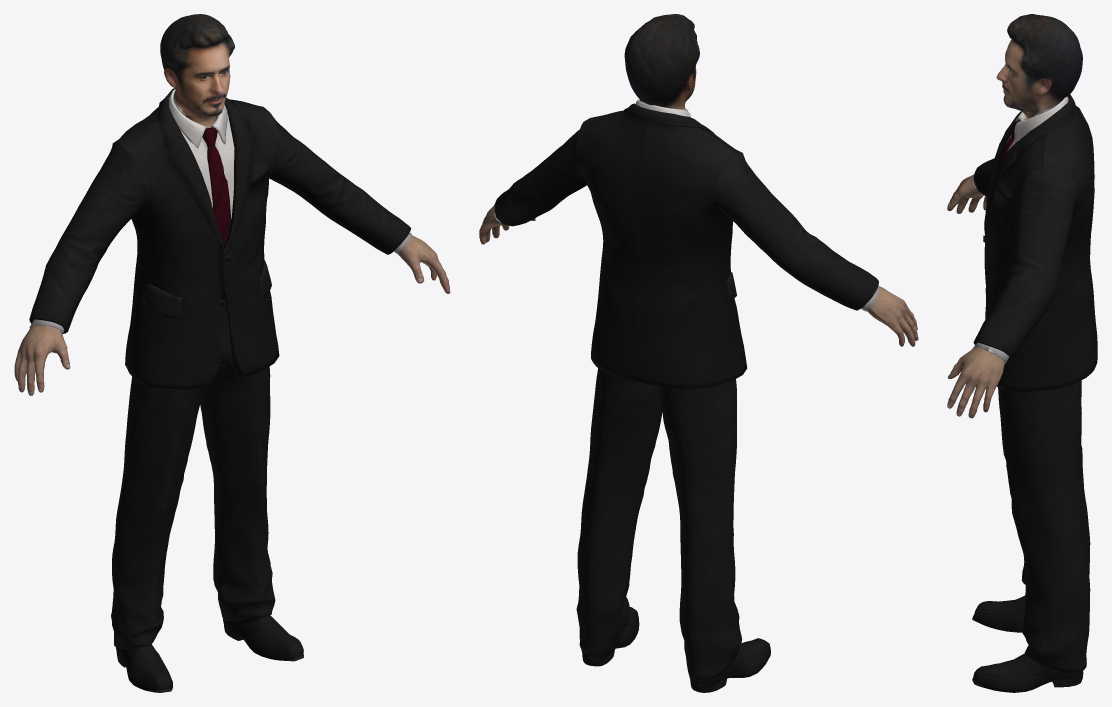
The model's file is avatar.glb.
3 renders of one model, left to right at view 1: azimuth 30°, elevation 25°; view 2: azimuth 150°, elevation 25°; view 3: azimuth 270°, elevation 25°, orthographic.
Parts seen in each view (by area): view 1: 24_suit_0.4_0_0.001, 24_trousers_0.4_0_0.001, model.004, 24_shoes_0.5_0_0.001, 24_shirt_0.3_0_0.001, 24_hands_0.2_0_0.001, 24_trouserP_0.4_0_0.001; view 2: 24_suit_0.4_0_0.001, 24_trousers_0.4_0_0.001, model.004, 24_shoes_0.5_0_0.001, 24_hands_0.2_0_0.001; view 3: 24_suit_0.4_0_0.001, 24_trousers_0.4_0_0.001, model.004, 24_shoes_0.5_0_0.001, 24_hands_0.2_0_0.001, 24_shirt_0.3_0_0.001.
Part boxes in pixels (bbox=[...]): 24_suit_0.4_0_0.001: bbox=[29, 88, 410, 389]; 24_trousers_0.4_0_0.001: bbox=[111, 302, 275, 649]; model.004: bbox=[160, 14, 234, 131]; 24_shoes_0.5_0_0.001: bbox=[116, 615, 303, 692]; 24_shirt_0.3_0_0.001: bbox=[168, 89, 234, 245]; 24_hands_0.2_0_0.001: bbox=[14, 233, 450, 395]; 24_trouserP_0.4_0_0.001: bbox=[142, 260, 271, 319]; 24_suit_0.4_0_0.001: bbox=[494, 103, 878, 388]; 24_trousers_0.4_0_0.001: bbox=[576, 368, 741, 680]; model.004: bbox=[624, 14, 699, 111]; 24_shoes_0.5_0_0.001: bbox=[581, 607, 770, 692]; 24_hands_0.2_0_0.001: bbox=[479, 205, 918, 346]; 24_suit_0.4_0_0.001: bbox=[973, 94, 1097, 392]; 24_trousers_0.4_0_0.001: bbox=[998, 380, 1090, 672]; model.004: bbox=[996, 14, 1082, 120]; 24_shoes_0.5_0_0.001: bbox=[972, 595, 1083, 692]; 24_hands_0.2_0_0.001: bbox=[947, 174, 1009, 418]; 24_shirt_0.3_0_0.001: bbox=[999, 96, 1068, 163].
Bounding box in the file's own units: 1.64 × 2.35 × 0.5042.
Materials: 4 (4 with a texture image).
